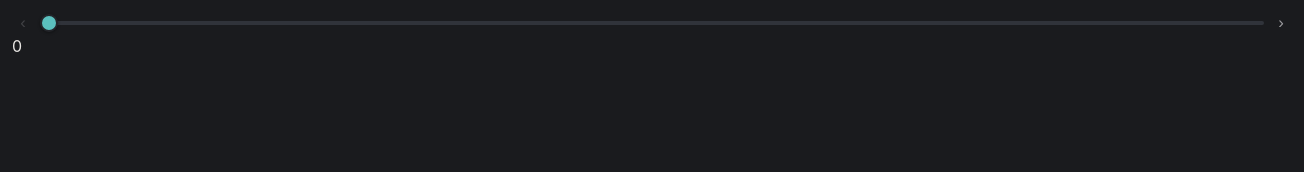
Test: TimeStepper › offers the speed on right-click and remembers it
Earlier steps of the test are not shown.
Right-click the button named "Next date" at [1281, 23], box [1270,12,1292,34]
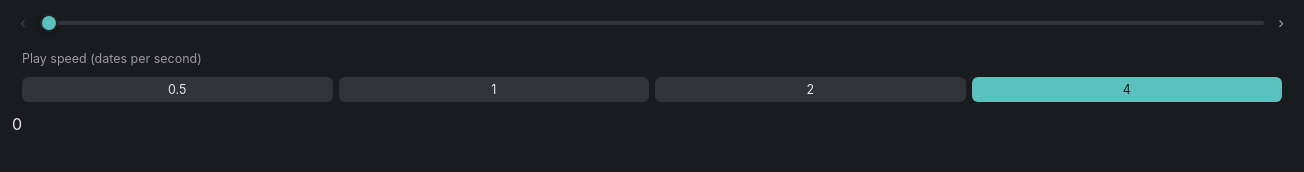
Press Escape
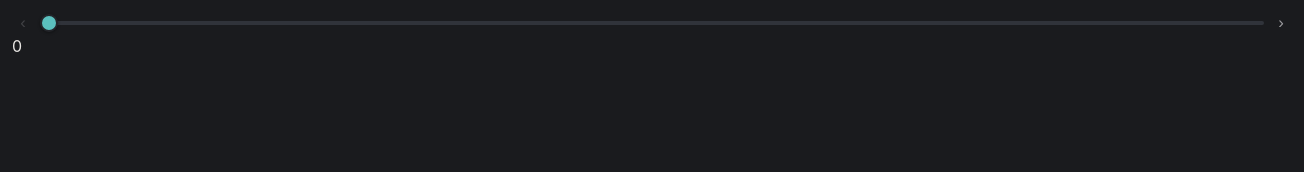
Expected: the text "Play speed" is gone
